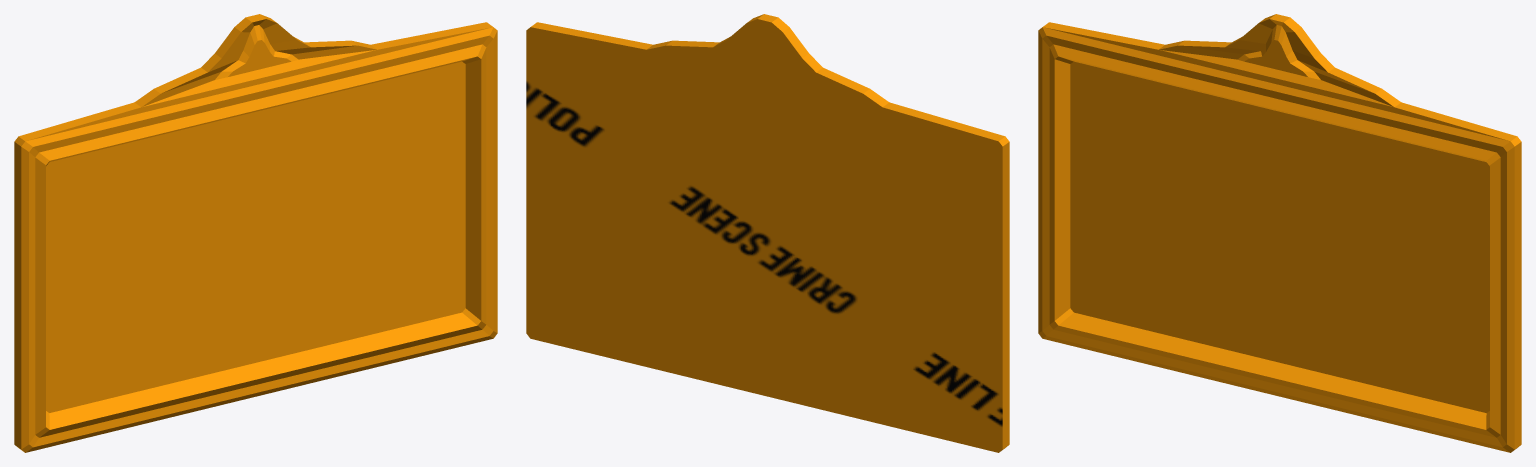
The model's file is mirror.fbx.
3 views of the same model, side by side, from view 1: azimuth 30°, elevation 25°; view 2: azimuth 150°, elevation 25°; view 3: azimuth 330°, elevation 25° (orthographic).
Parts seen in each view (by area): view 1: mirror_frame; view 2: mirror_frame; view 3: mirror_frame.
Part boxes in pixels (left/top/right/bottom): mirror_frame: left=14, top=14, right=497, bottom=452; mirror_frame: left=526, top=14, right=1009, bottom=452; mirror_frame: left=1038, top=14, right=1521, bottom=452.
Bounding box in the file's own units: 4.6 × 3.46 × 0.186.
